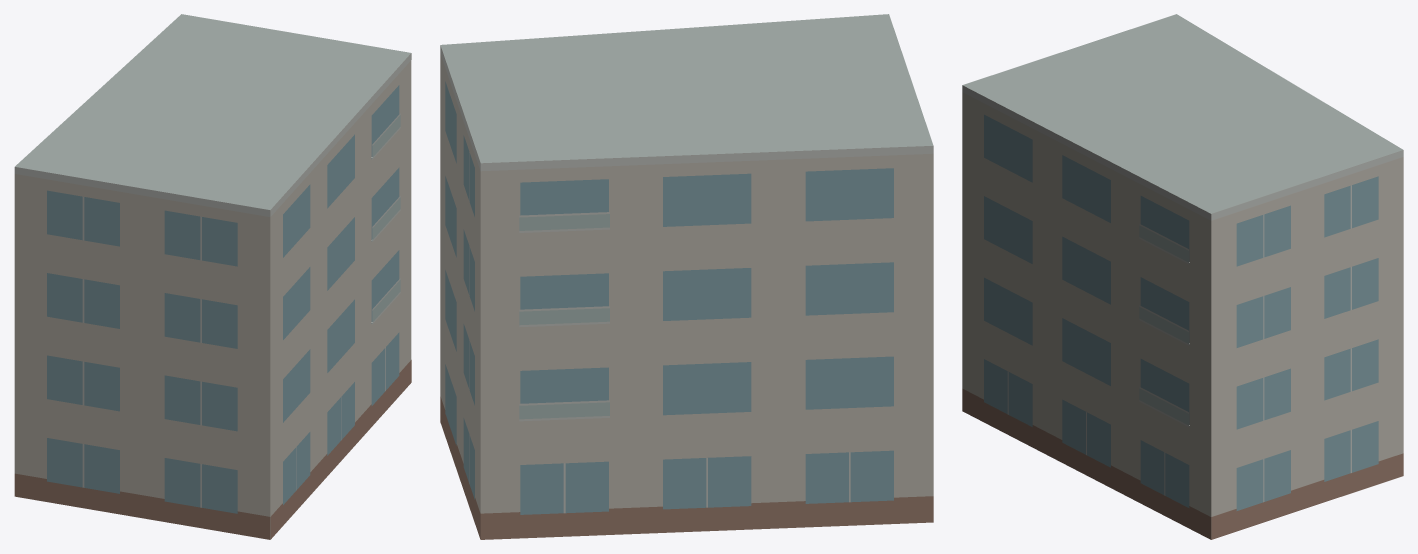
The model's file is survey-upis-32648286.glb.
The picture shows the model from 3 angles, left to right: view 1: azimuth 30°, elevation 25°; view 2: azimuth 150°, elevation 25°; view 3: azimuth 270°, elevation 25°; orthographic projection. The views are drawn at different scales.
Visible parts, largest first — view 1: survey-upis-32648286.tmp; view 2: survey-upis-32648286.tmp; view 3: survey-upis-32648286.tmp.
Part boxes in pixels (x1,y1,x2,y2): survey-upis-32648286.tmp: (14,14,411,539); survey-upis-32648286.tmp: (440,14,933,539); survey-upis-32648286.tmp: (962,14,1403,539).
Bounding box in the file's own units: 15.13 × 11.5 × 14.12.
